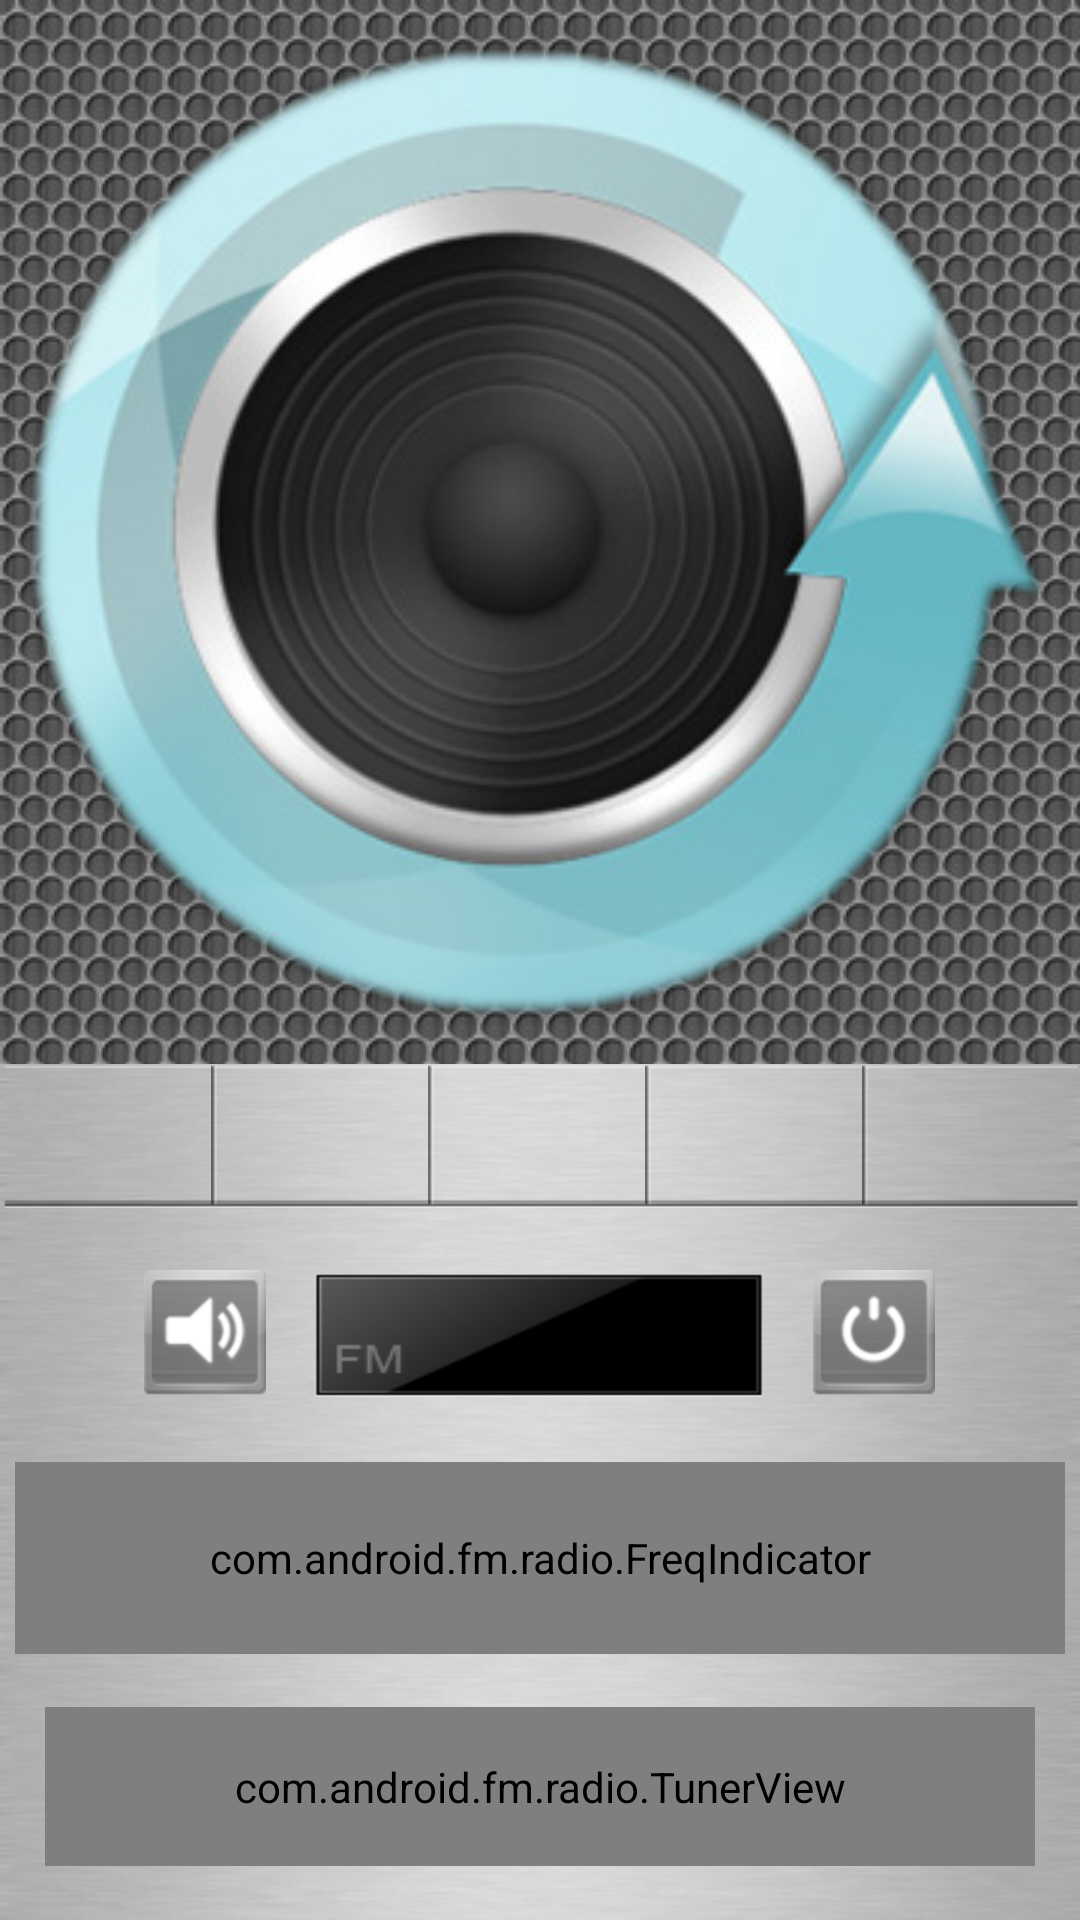

Icons on this 1080px×1920px Android screen, each with the point to tap as (x=x, y=y):
loudspeaker off: (x=181, y=1340)
power off: (x=850, y=1338)
